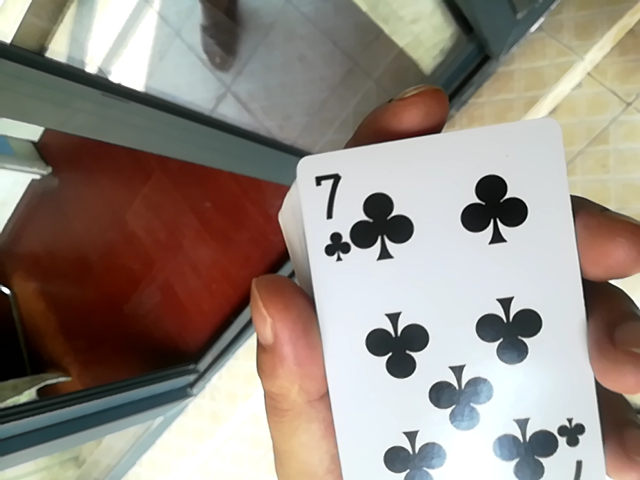mh 7: (272, 118, 614, 478)
